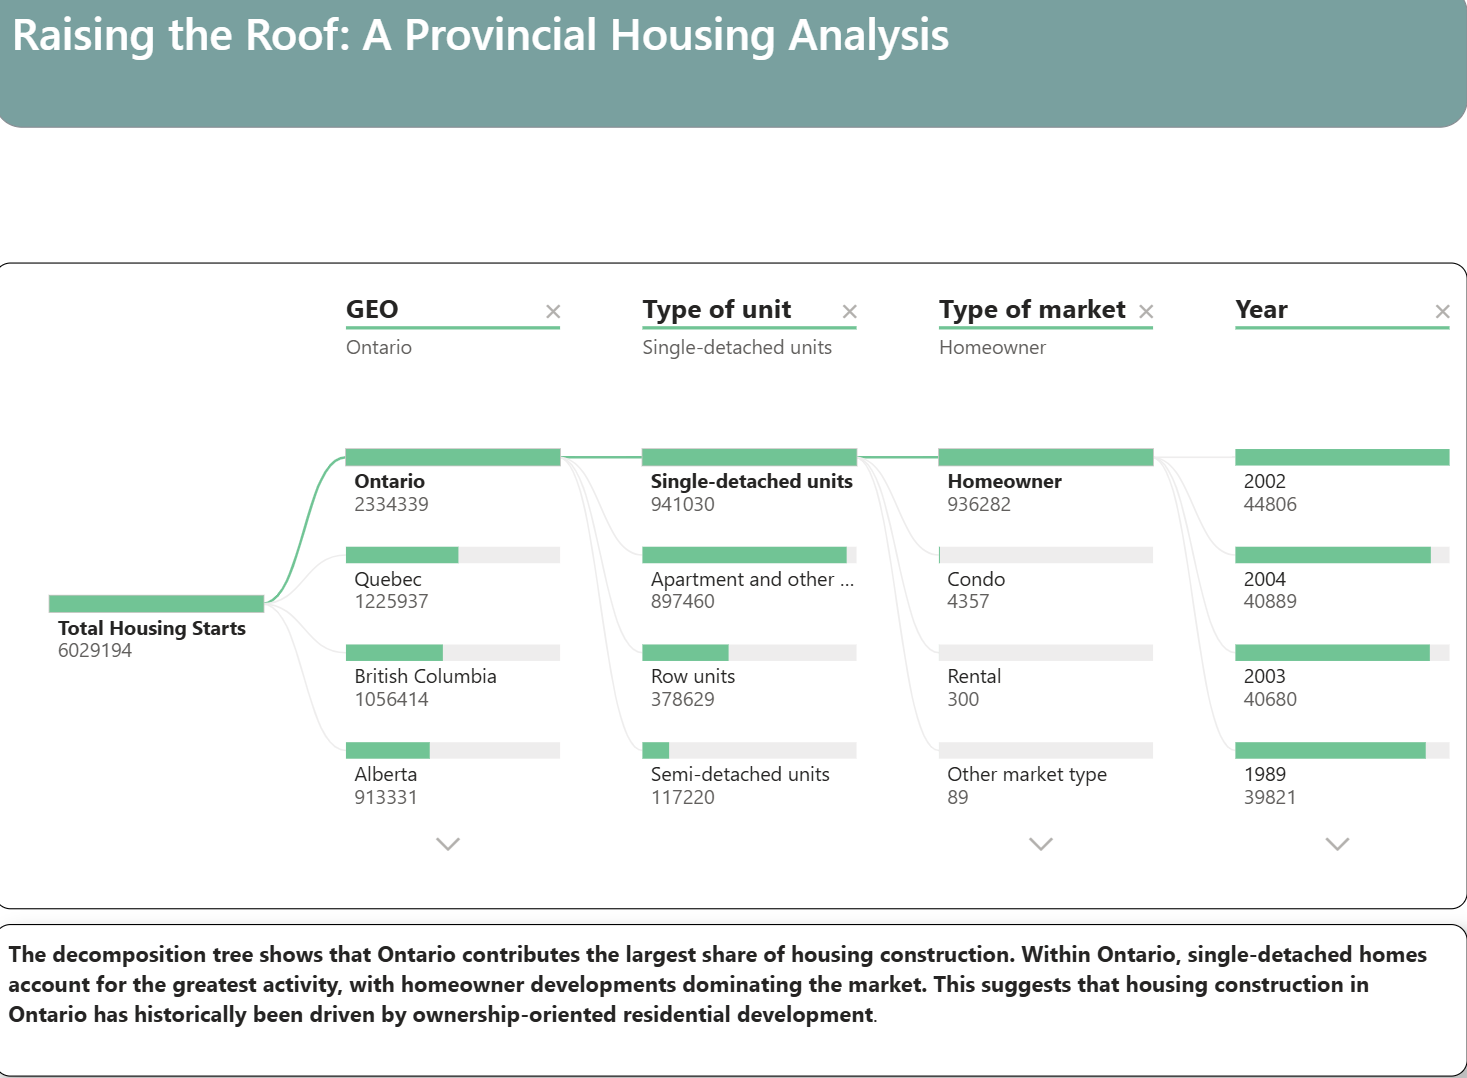

What the dashboard file says about the page in this screenshot:
{"tool":"powerbi","page":{"name":"Page 2","canvas":[1280,720],"ordinal":1},"visuals":[{"type":"textbox","box":[0,0,894.5,86.9],"z":0},{"type":"decompositionTreeVisual","fields":{"Analyze":["34100152.Total Housing Starts"],"ExplainBy":["34100152.GEO","34100152.Type of unit","34100152.Type of market","DateTable.Year"]},"box":[0,168,894.5,392.8],"z":1000},{"type":"textbox","box":[0,570.1,894.5,92.7],"z":2000}]}

Visuals, with their boxes on the page's 1280x720 design canvas (x1, y1, x2, y2). These are canvas units, not pixel positions in the 1467x1078 screenshot, which may show the page scaled, cropped or inside an application window:
textbox: {"x1": 0, "y1": 0, "x2": 894, "y2": 87}
decompositionTreeVisual - 34100152.Total Housing Starts x 34100152.GEO: {"x1": 0, "y1": 168, "x2": 894, "y2": 561}
textbox: {"x1": 0, "y1": 570, "x2": 894, "y2": 663}
